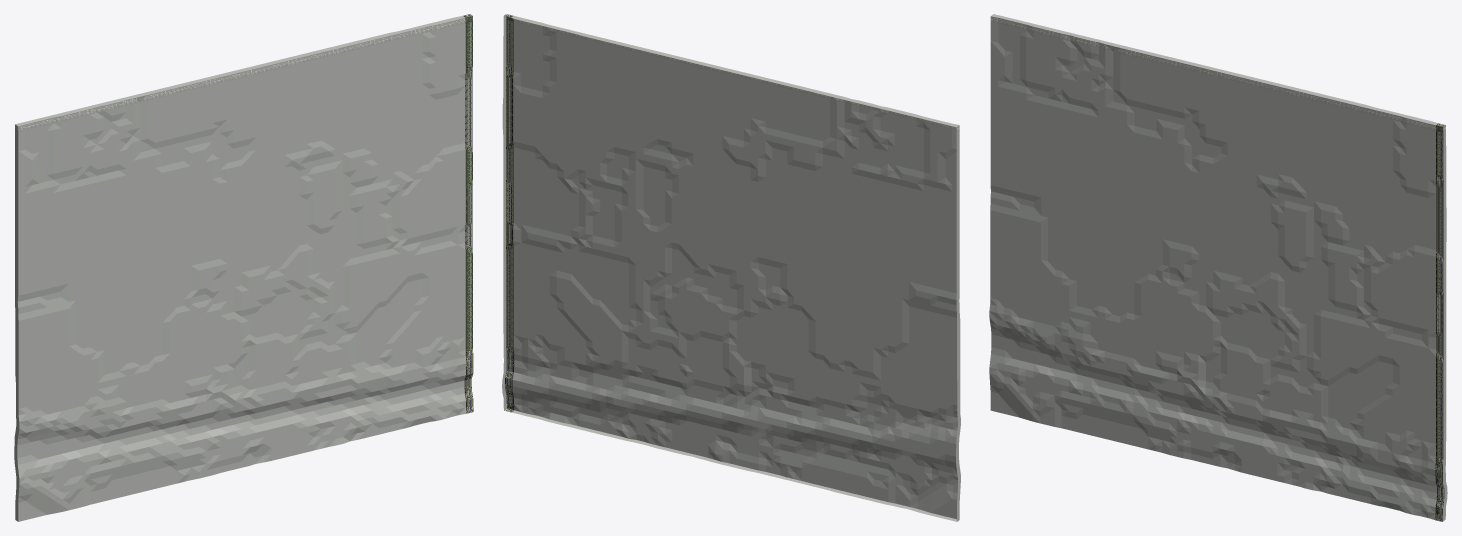
The model's file is novo4b.dae.
3 renders of one model, left to right at view 1: azimuth 30°, elevation 25°; view 2: azimuth 150°, elevation 25°; view 3: azimuth 330°, elevation 25°, orthographic.
Visible parts, largest first — view 1: node; view 2: node; view 3: node.
Part boxes in pixels (x1,y1,x2,y2): node: [14, 14, 473, 521]; node: [502, 14, 960, 521]; node: [989, 14, 1447, 521].
Size of the model in its own units: 671 by 558 by 13.
1 material, 1 textured.
